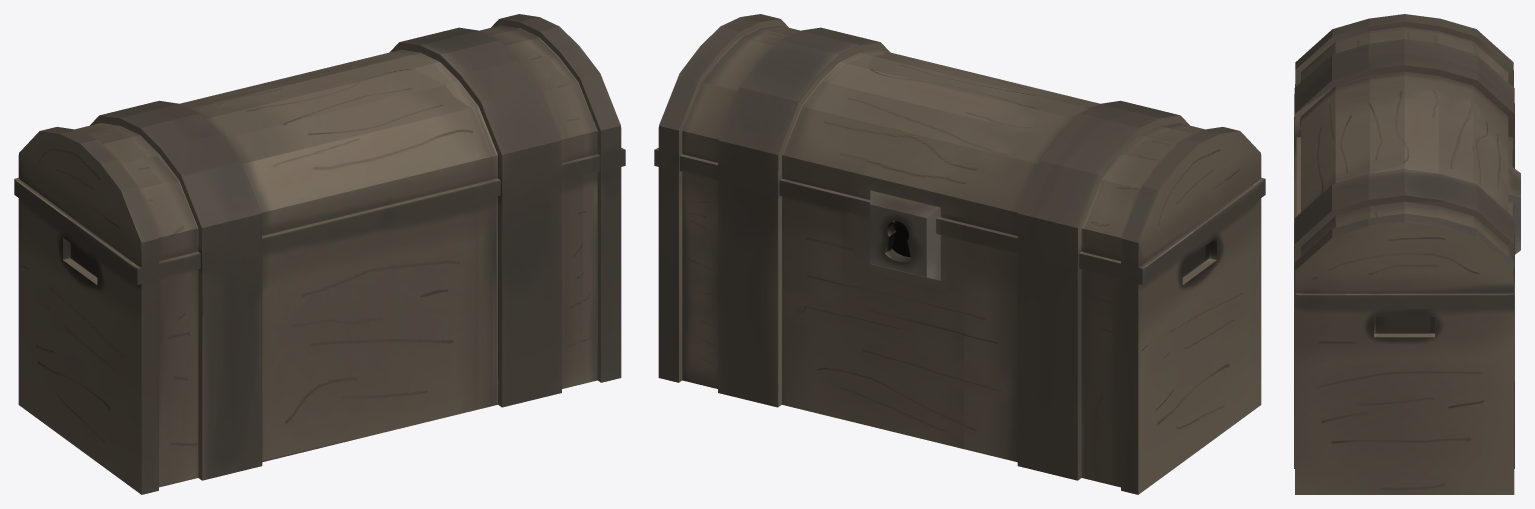
The model's file is chest.fbx.
3 views of the same model, side by side, from view 1: azimuth 30°, elevation 25°; view 2: azimuth 150°, elevation 25°; view 3: azimuth 270°, elevation 25° (orthographic). The views are drawn at different scales.
Visible parts, largest first — view 1: chest; view 2: chest; view 3: chest.
Part boxes in pixels (<box>): chest: <box>14,14,625,494</box>; chest: <box>654,14,1265,494</box>; chest: <box>1294,14,1520,494</box>.
Size of the model in its own units: 190 by 85.72 by 114.
